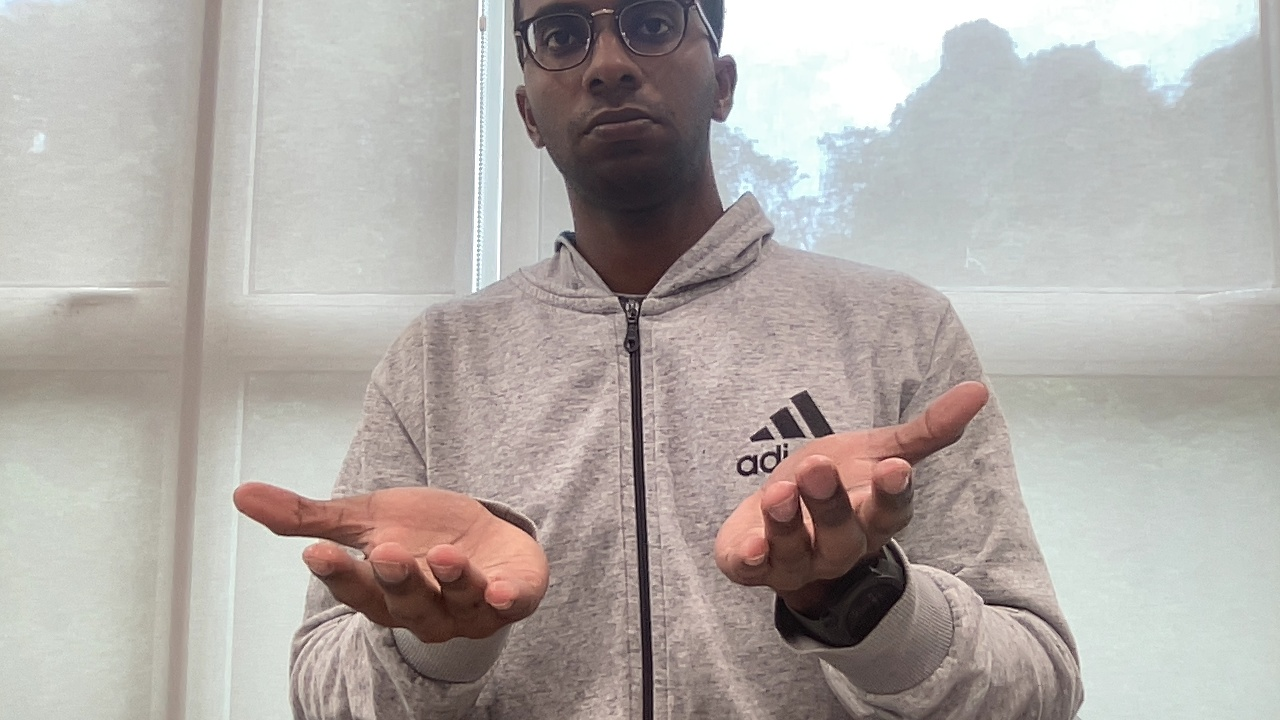give: (224, 368, 1002, 654)
